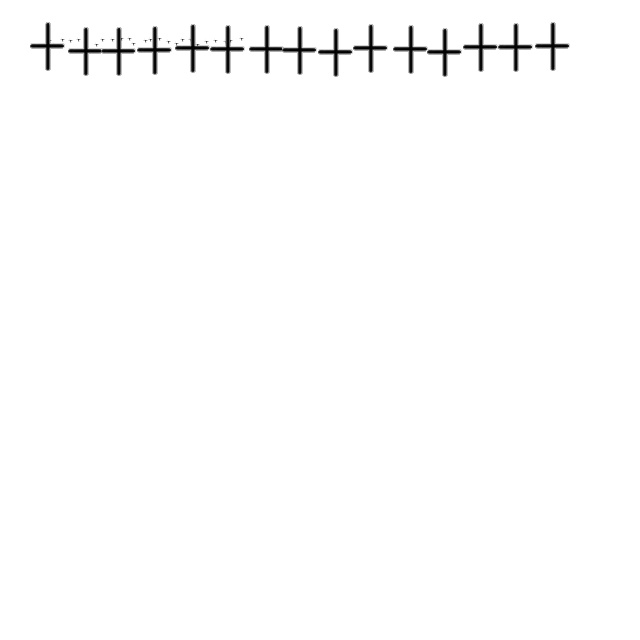double: (98, 27, 138, 77), (134, 26, 174, 76), (172, 24, 212, 74), (246, 25, 286, 75), (350, 24, 390, 74), (390, 25, 430, 75), (424, 28, 464, 78), (460, 23, 500, 73), (532, 22, 572, 72), (28, 22, 66, 72), (66, 27, 104, 77), (208, 25, 246, 75), (280, 26, 318, 76), (316, 28, 354, 78), (496, 23, 534, 73), (52, 42, 58, 48), (68, 38, 74, 44), (94, 42, 100, 48), (228, 38, 234, 44), (48, 38, 52, 44), (60, 38, 66, 42), (76, 38, 82, 42), (84, 40, 88, 46), (100, 38, 106, 42), (110, 38, 116, 42), (120, 36, 124, 42), (128, 36, 132, 42), (144, 38, 148, 44), (148, 38, 154, 42), (158, 36, 162, 42), (166, 40, 172, 44), (174, 42, 180, 46), (180, 38, 186, 42), (188, 38, 194, 42), (196, 42, 200, 48), (204, 40, 210, 44), (214, 38, 218, 44), (240, 36, 244, 42), (132, 42, 136, 46), (224, 40, 228, 44)
